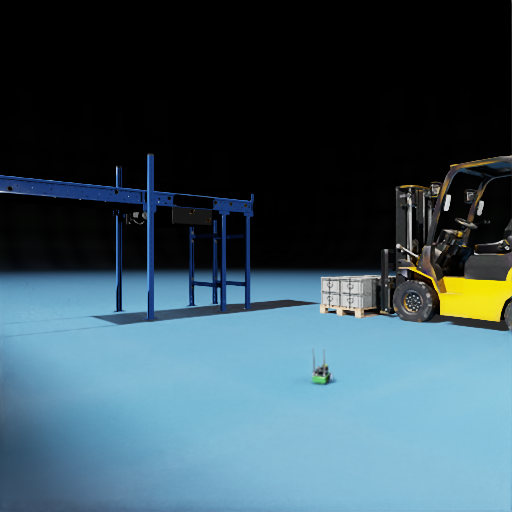jetbot: (313, 352, 314, 375)
transportation_area: (350, 292, 380, 308), (340, 293, 348, 306)
